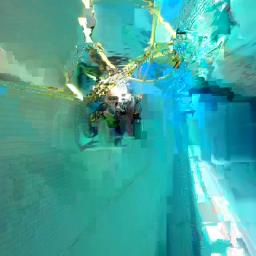Full: (75, 92, 143, 150)
